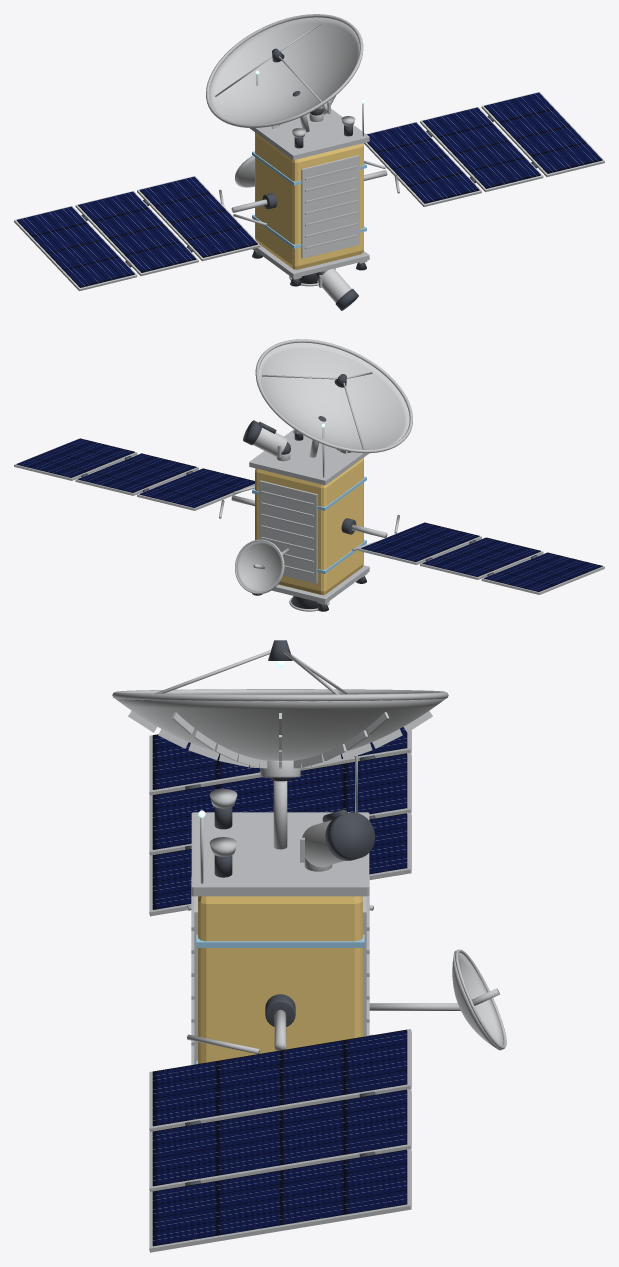
Rendered from mafalda.glb.
3 views of the same model, one above another, from view 1: azimuth 30°, elevation 25°; view 2: azimuth 150°, elevation 25°; view 3: azimuth 270°, elevation 25° (orthographic). The views are drawn at different scales.
Visible parts, largest first — view 1: dish, bus, wing_cells.002, wing_cells.001, wing_cells.003, wing_cells.005, wing_cells.004, radiator.001, wing_cells, deck, dish_rim, deck.001 (+8 smaller); view 2: dish, bus, radiator, deck, wing_cells.001, wing_cells.002, wing_cells.004, wing_cells.005, wing_cells.003, wing_cells, dish_small, dish_rim (+8 smaller); view 3: bus, wing_cells.001, wing_cells, wing_cells.002, dish, deck, wing_cells.004, wing_cells.003, dish_rim, wing_cells.005, wing_back.002, dish_small (+10 smaller).
Boxes of the visible parts, <box> form: dish: <box>209,17,359,124</box>; bus: <box>255,132,363,269</box>; wing_cells.002: <box>484,92,602,173</box>; wing_cells.001: <box>422,107,540,188</box>; wing_cells.003: <box>139,176,257,257</box>; wing_cells.005: <box>16,206,134,287</box>; wing_cells.004: <box>78,191,196,272</box>; radiator.001: <box>301,155,359,258</box>; wing_cells: <box>367,122,479,203</box>; deck: <box>249,108,369,159</box>; dish_rim: <box>206,14,363,127</box>; deck.001: <box>253,245,369,278</box>; dish: <box>259,342,409,449</box>; bus: <box>255,458,363,595</box>; radiator: <box>259,480,317,583</box>; deck: <box>249,430,368,485</box>; wing_cells.001: <box>78,453,196,492</box>; wing_cells.002: <box>16,438,134,477</box>; wing_cells.004: <box>422,537,540,576</box>; wing_cells.005: <box>484,552,602,591</box>; wing_cells.003: <box>361,522,479,561</box>; wing_cells: <box>139,468,254,507</box>; dish_small: <box>236,541,284,594</box>; dish_rim: <box>255,339,412,453</box>; bus: <box>198,896,362,1063</box>; wing_cells.001: <box>152,1089,407,1186</box>; wing_cells: <box>152,1029,407,1126</box>; wing_cells.002: <box>152,1149,407,1246</box>; dish: <box>116,698,445,760</box>; deck: <box>191,812,369,896</box>; wing_cells.004: <box>152,753,407,849</box>; wing_cells.003: <box>152,813,407,909</box>; dish_rim: <box>112,689,448,701</box>; wing_cells.005: <box>152,727,407,789</box>; wing_back.002: <box>149,1149,411,1252</box>; dish_small: <box>452,950,503,1050</box>.
Bounding box in the file's own units: 9.58 × 4.54 × 3.11.
7 materials, 1 textured.
